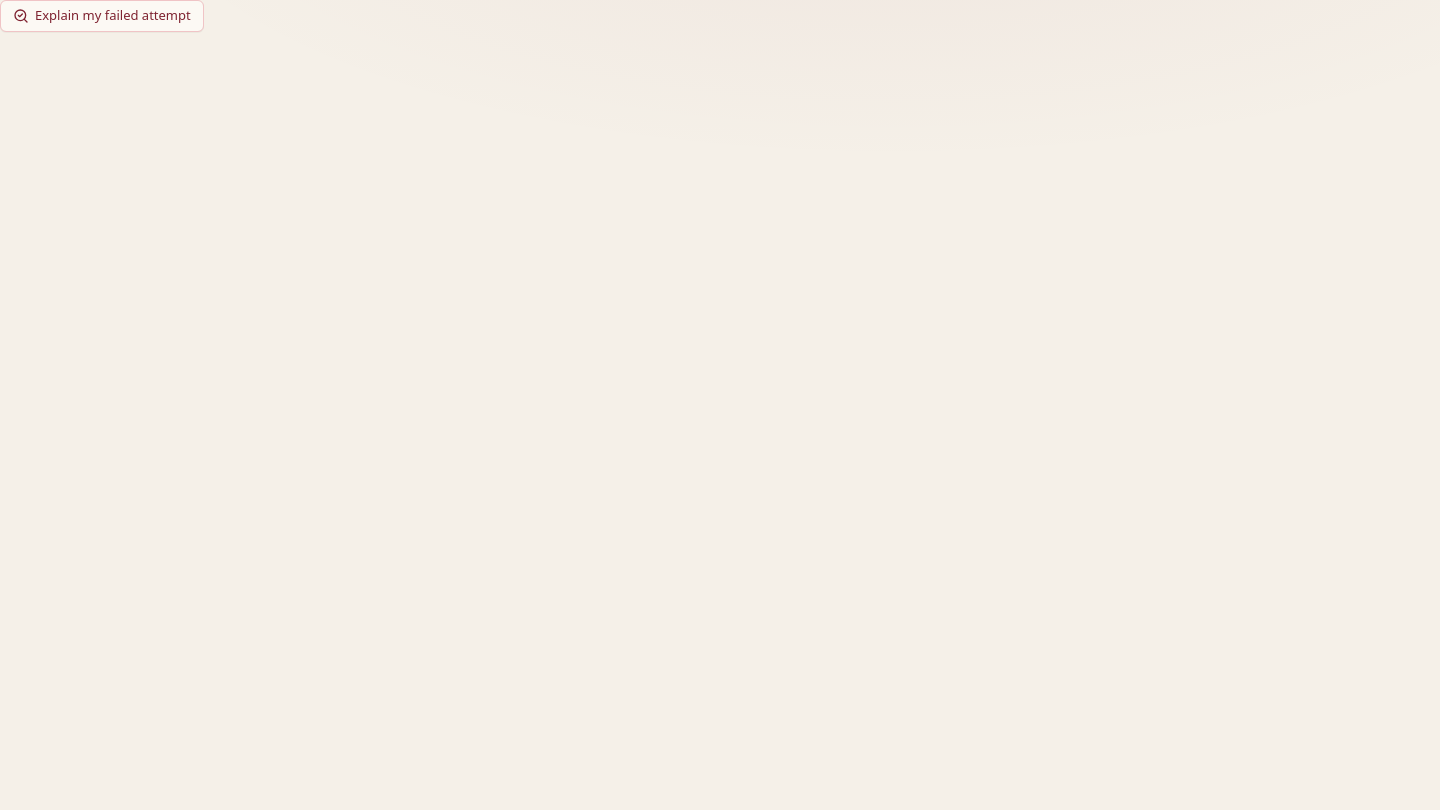
Test case: the learning agent in the browser (Phase 9D) › beside a lab › offers “Explain my failed attempt” after a failed attempt, and asks it once, naming only the lab
Click the button "Explain my failed attempt". click: point(102, 16)
box: [0, 0, 204, 32]
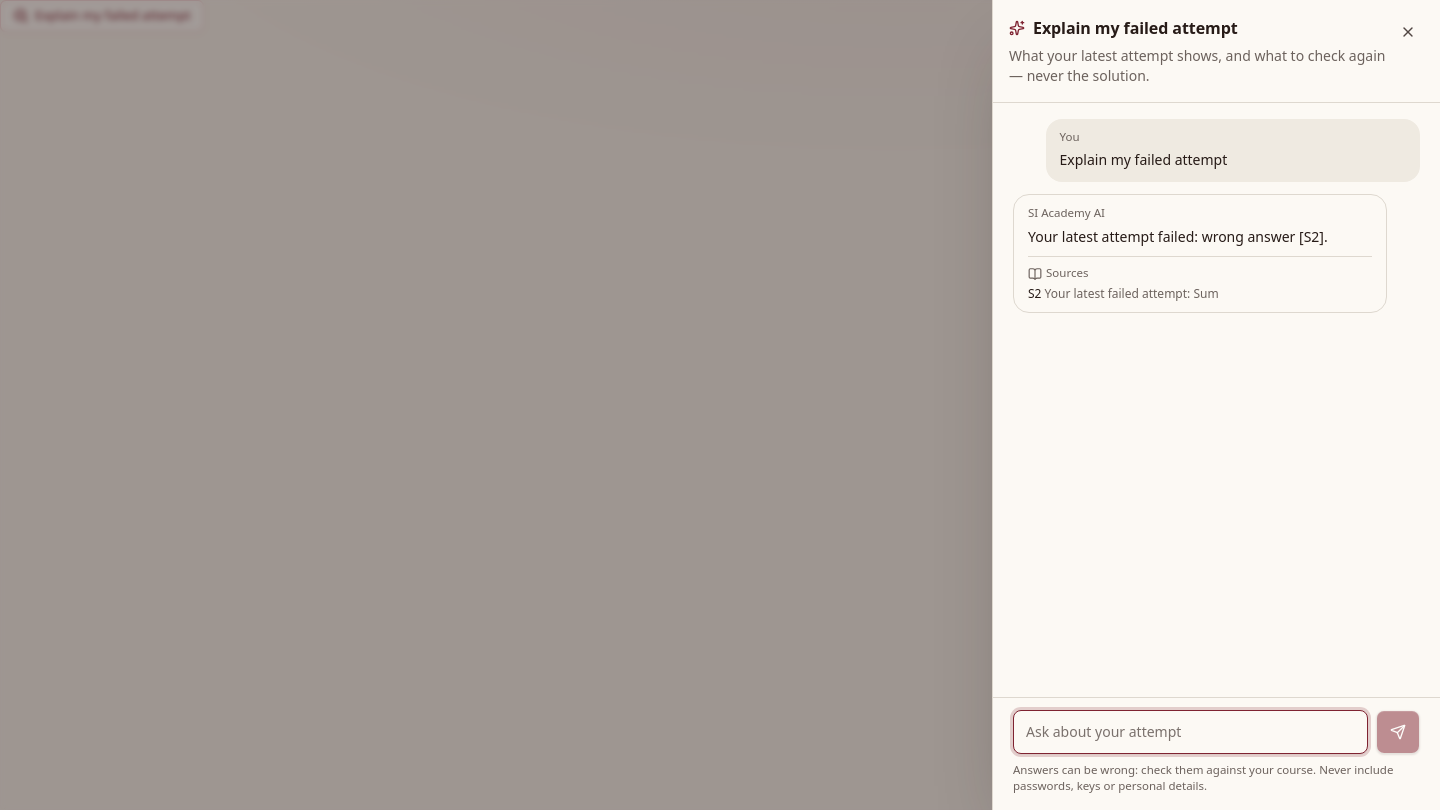
Check: the text "Your latest attempt failed: wrong answer [S2]." is shown, box [1028, 226, 1372, 248]
Check: the list item "Your latest failed attempt: Sum" is shown, box [1045, 285, 1219, 302]
